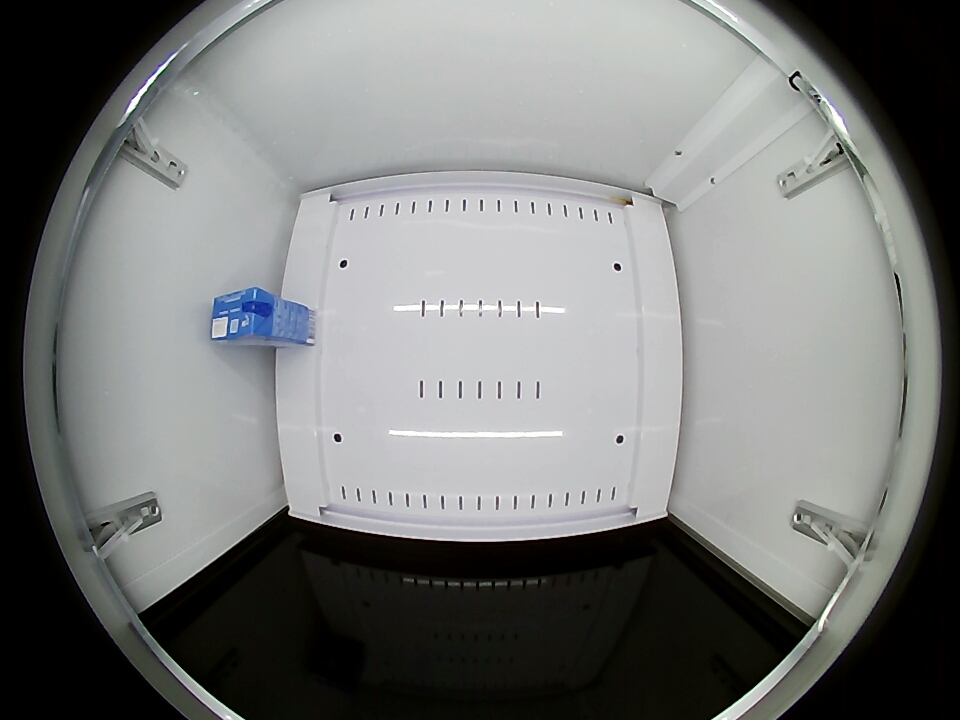weitanai: (211, 287, 275, 344)
